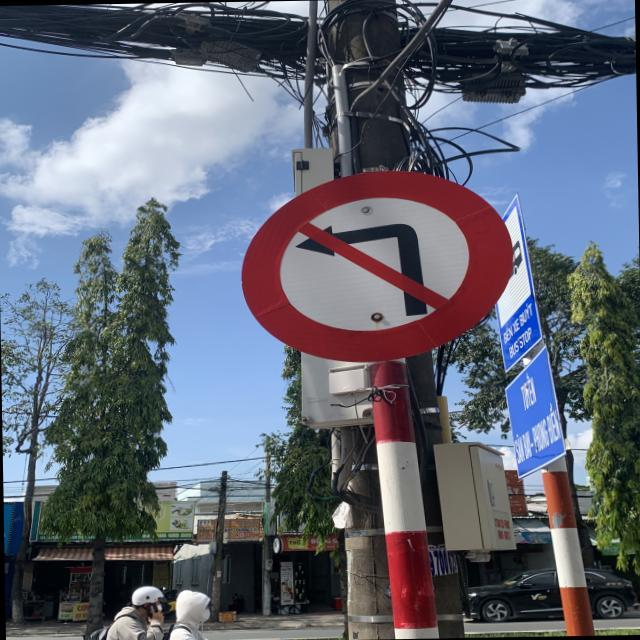Cam_Re_Trai: (237, 166, 518, 365)
